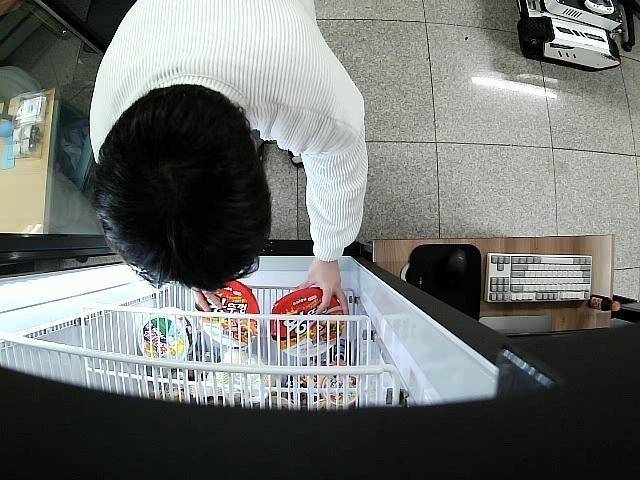10_wangTtukkeong: (272, 288, 344, 356), (197, 282, 260, 350)
